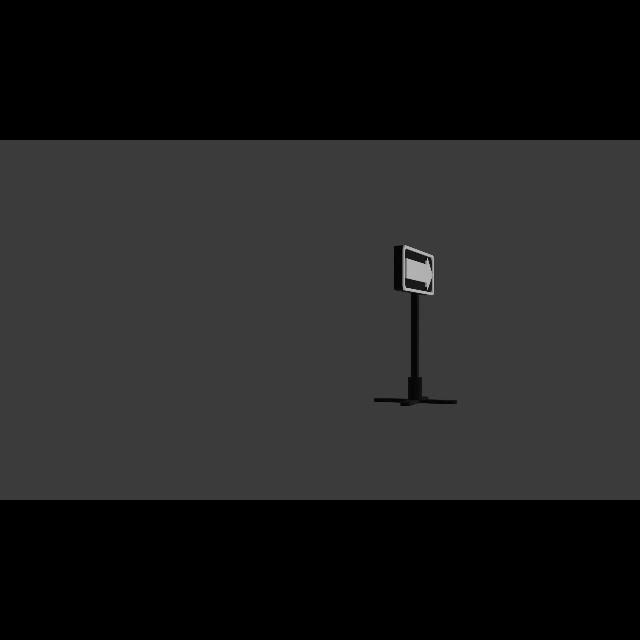sign_oneway_right: (402, 244, 438, 296)
